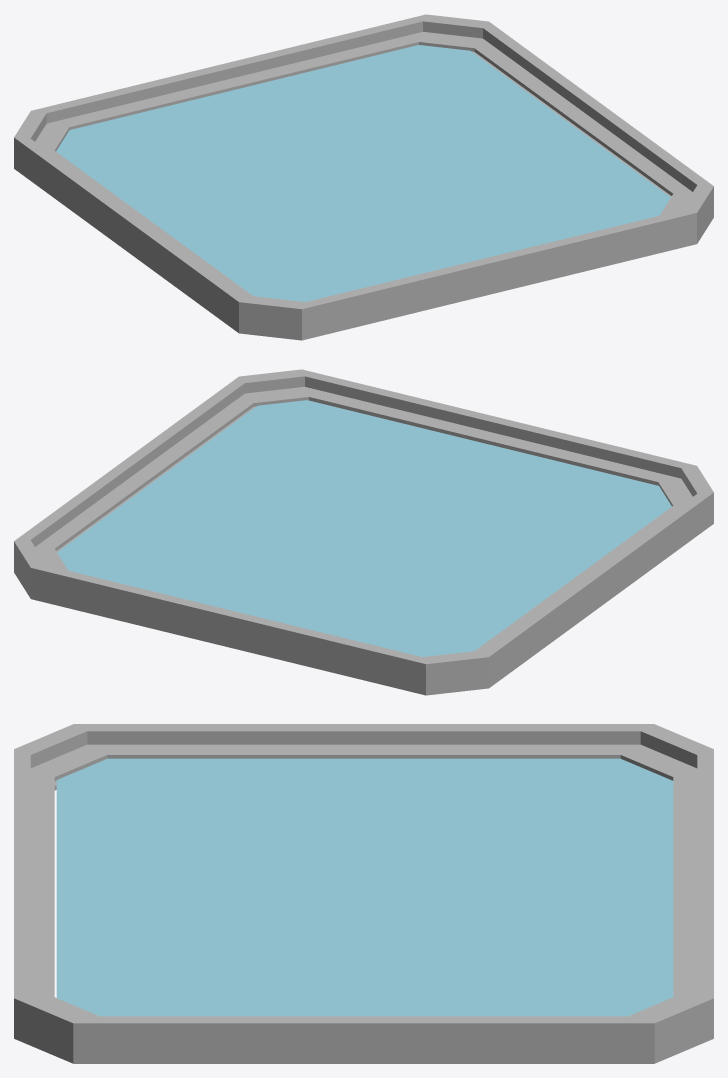
File: MSH_CuadradoPanel.fbx
3 views of the same model, one above another, from view 1: azimuth 30°, elevation 25°; view 2: azimuth 150°, elevation 25°; view 3: azimuth 270°, elevation 25° (orthographic). The views are drawn at different scales.
Parts seen in each view (by area): view 1: polySurface69; view 2: polySurface69; view 3: polySurface69.
Part boxes in pixels (x1,y1,x2,y2): polySurface69: (14, 14, 713, 340); polySurface69: (14, 369, 713, 695); polySurface69: (14, 724, 713, 1063).
Size of the model in its own units: 8.07 by 0.5087 by 7.98.
